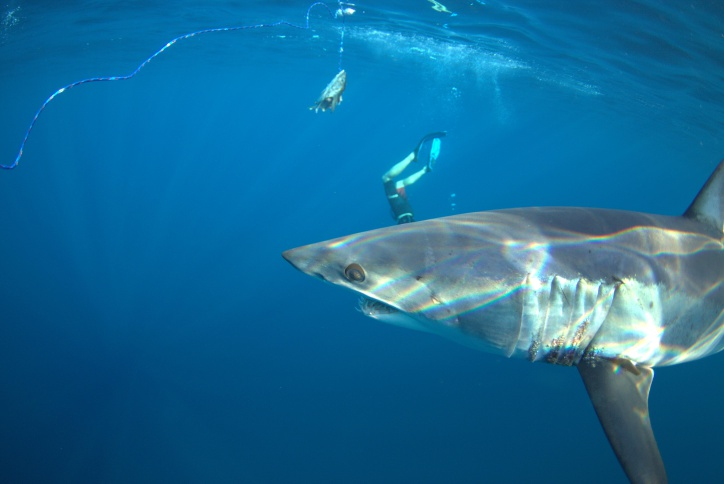Mako: (278, 148, 724, 484)
